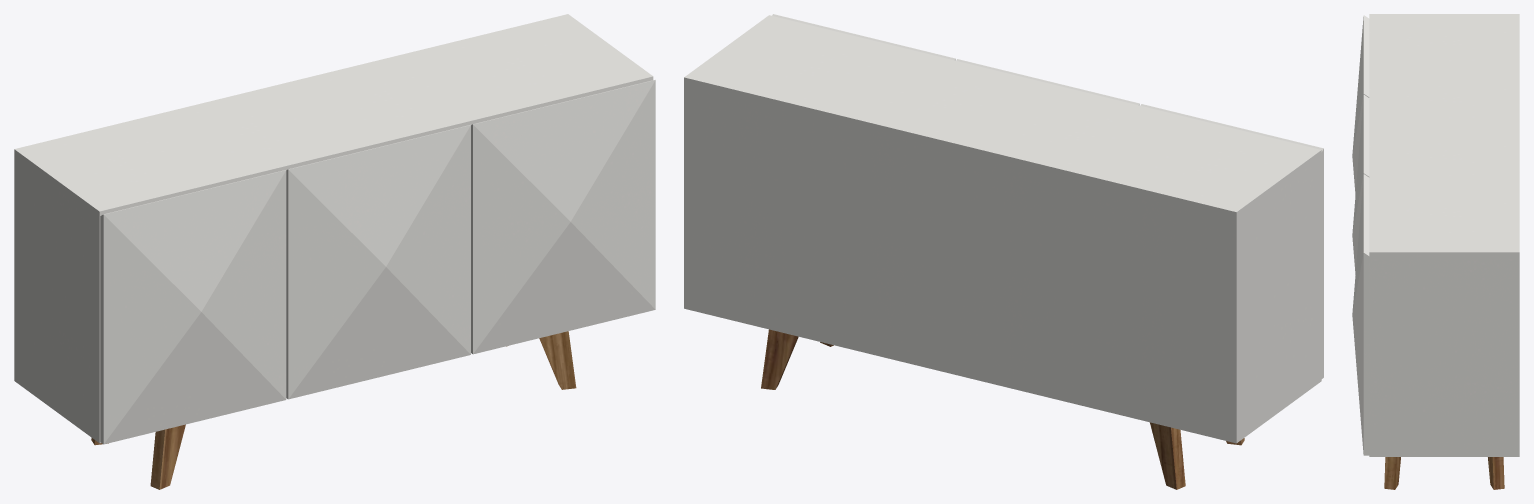
File: sideboard_mprender.glb
The picture shows the model from 3 angles, left to right: view 1: azimuth 30°, elevation 25°; view 2: azimuth 150°, elevation 25°; view 3: azimuth 270°, elevation 25°; orthographic projection. The views are drawn at different scales.
Visible parts, largest first — view 1: Aparador_Sala_1_BP_2_M_Mdf_Branco_Diamante_0, Aparador_Sala_1_BP_2_MI_MDF_Amendola_Rustica_0; view 2: Aparador_Sala_1_BP_2_M_Mdf_Branco_Diamante_0, Aparador_Sala_1_BP_2_MI_MDF_Amendola_Rustica_0; view 3: Aparador_Sala_1_BP_2_M_Mdf_Branco_Diamante_0, Aparador_Sala_1_BP_2_MI_MDF_Amendola_Rustica_0.
Boxes of the visible parts, bbox=[...] form: Aparador_Sala_1_BP_2_M_Mdf_Branco_Diamante_0: bbox=[14, 14, 655, 444]; Aparador_Sala_1_BP_2_MI_MDF_Amendola_Rustica_0: bbox=[91, 331, 576, 489]; Aparador_Sala_1_BP_2_M_Mdf_Branco_Diamante_0: bbox=[684, 14, 1323, 443]; Aparador_Sala_1_BP_2_MI_MDF_Amendola_Rustica_0: bbox=[761, 329, 1244, 489]; Aparador_Sala_1_BP_2_M_Mdf_Branco_Diamante_0: bbox=[1352, 14, 1519, 456]; Aparador_Sala_1_BP_2_MI_MDF_Amendola_Rustica_0: bbox=[1384, 457, 1504, 489].
Bounding box in the file's own units: 1.5 × 0.7799 × 0.445.
4 materials, 4 textured.
